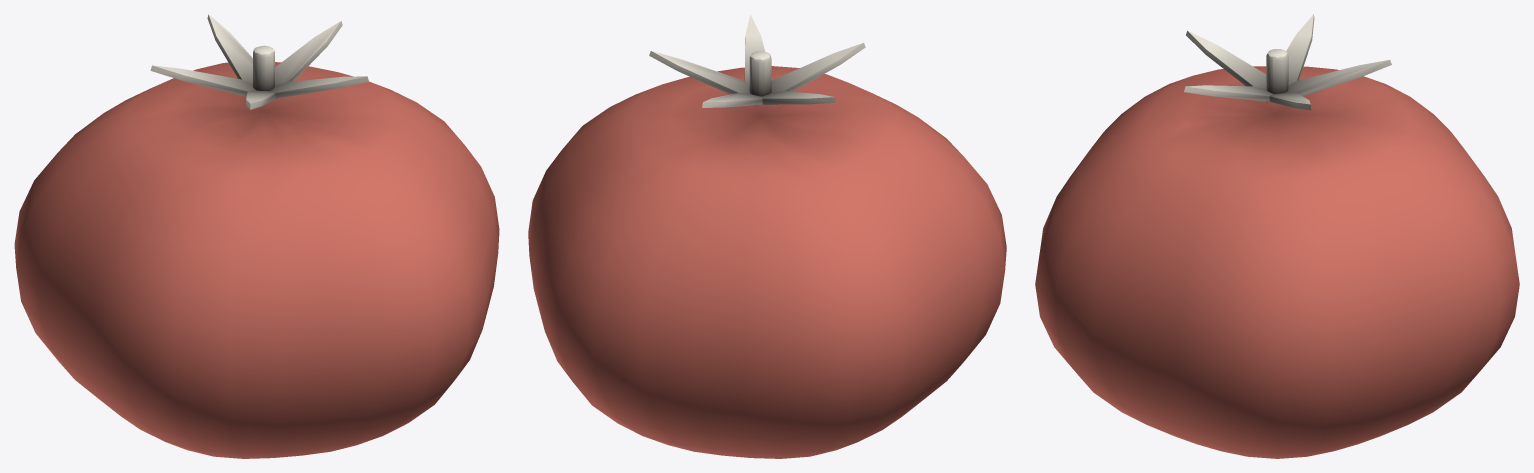
File: nd_tomato.glb
The picture shows the model from 3 angles, left to right: view 1: azimuth 30°, elevation 25°; view 2: azimuth 150°, elevation 25°; view 3: azimuth 270°, elevation 25°; orthographic projection.
Visible parts, largest first — view 1: PART; view 2: PART; view 3: PART.
Boxes of the visible parts, x1,y1,x2,y2 form: PART: (14, 14, 499, 458); PART: (528, 14, 1006, 458); PART: (1035, 14, 1519, 458).
Bounding box in the file's own units: 0.1201 × 0.1048 × 0.1217.
